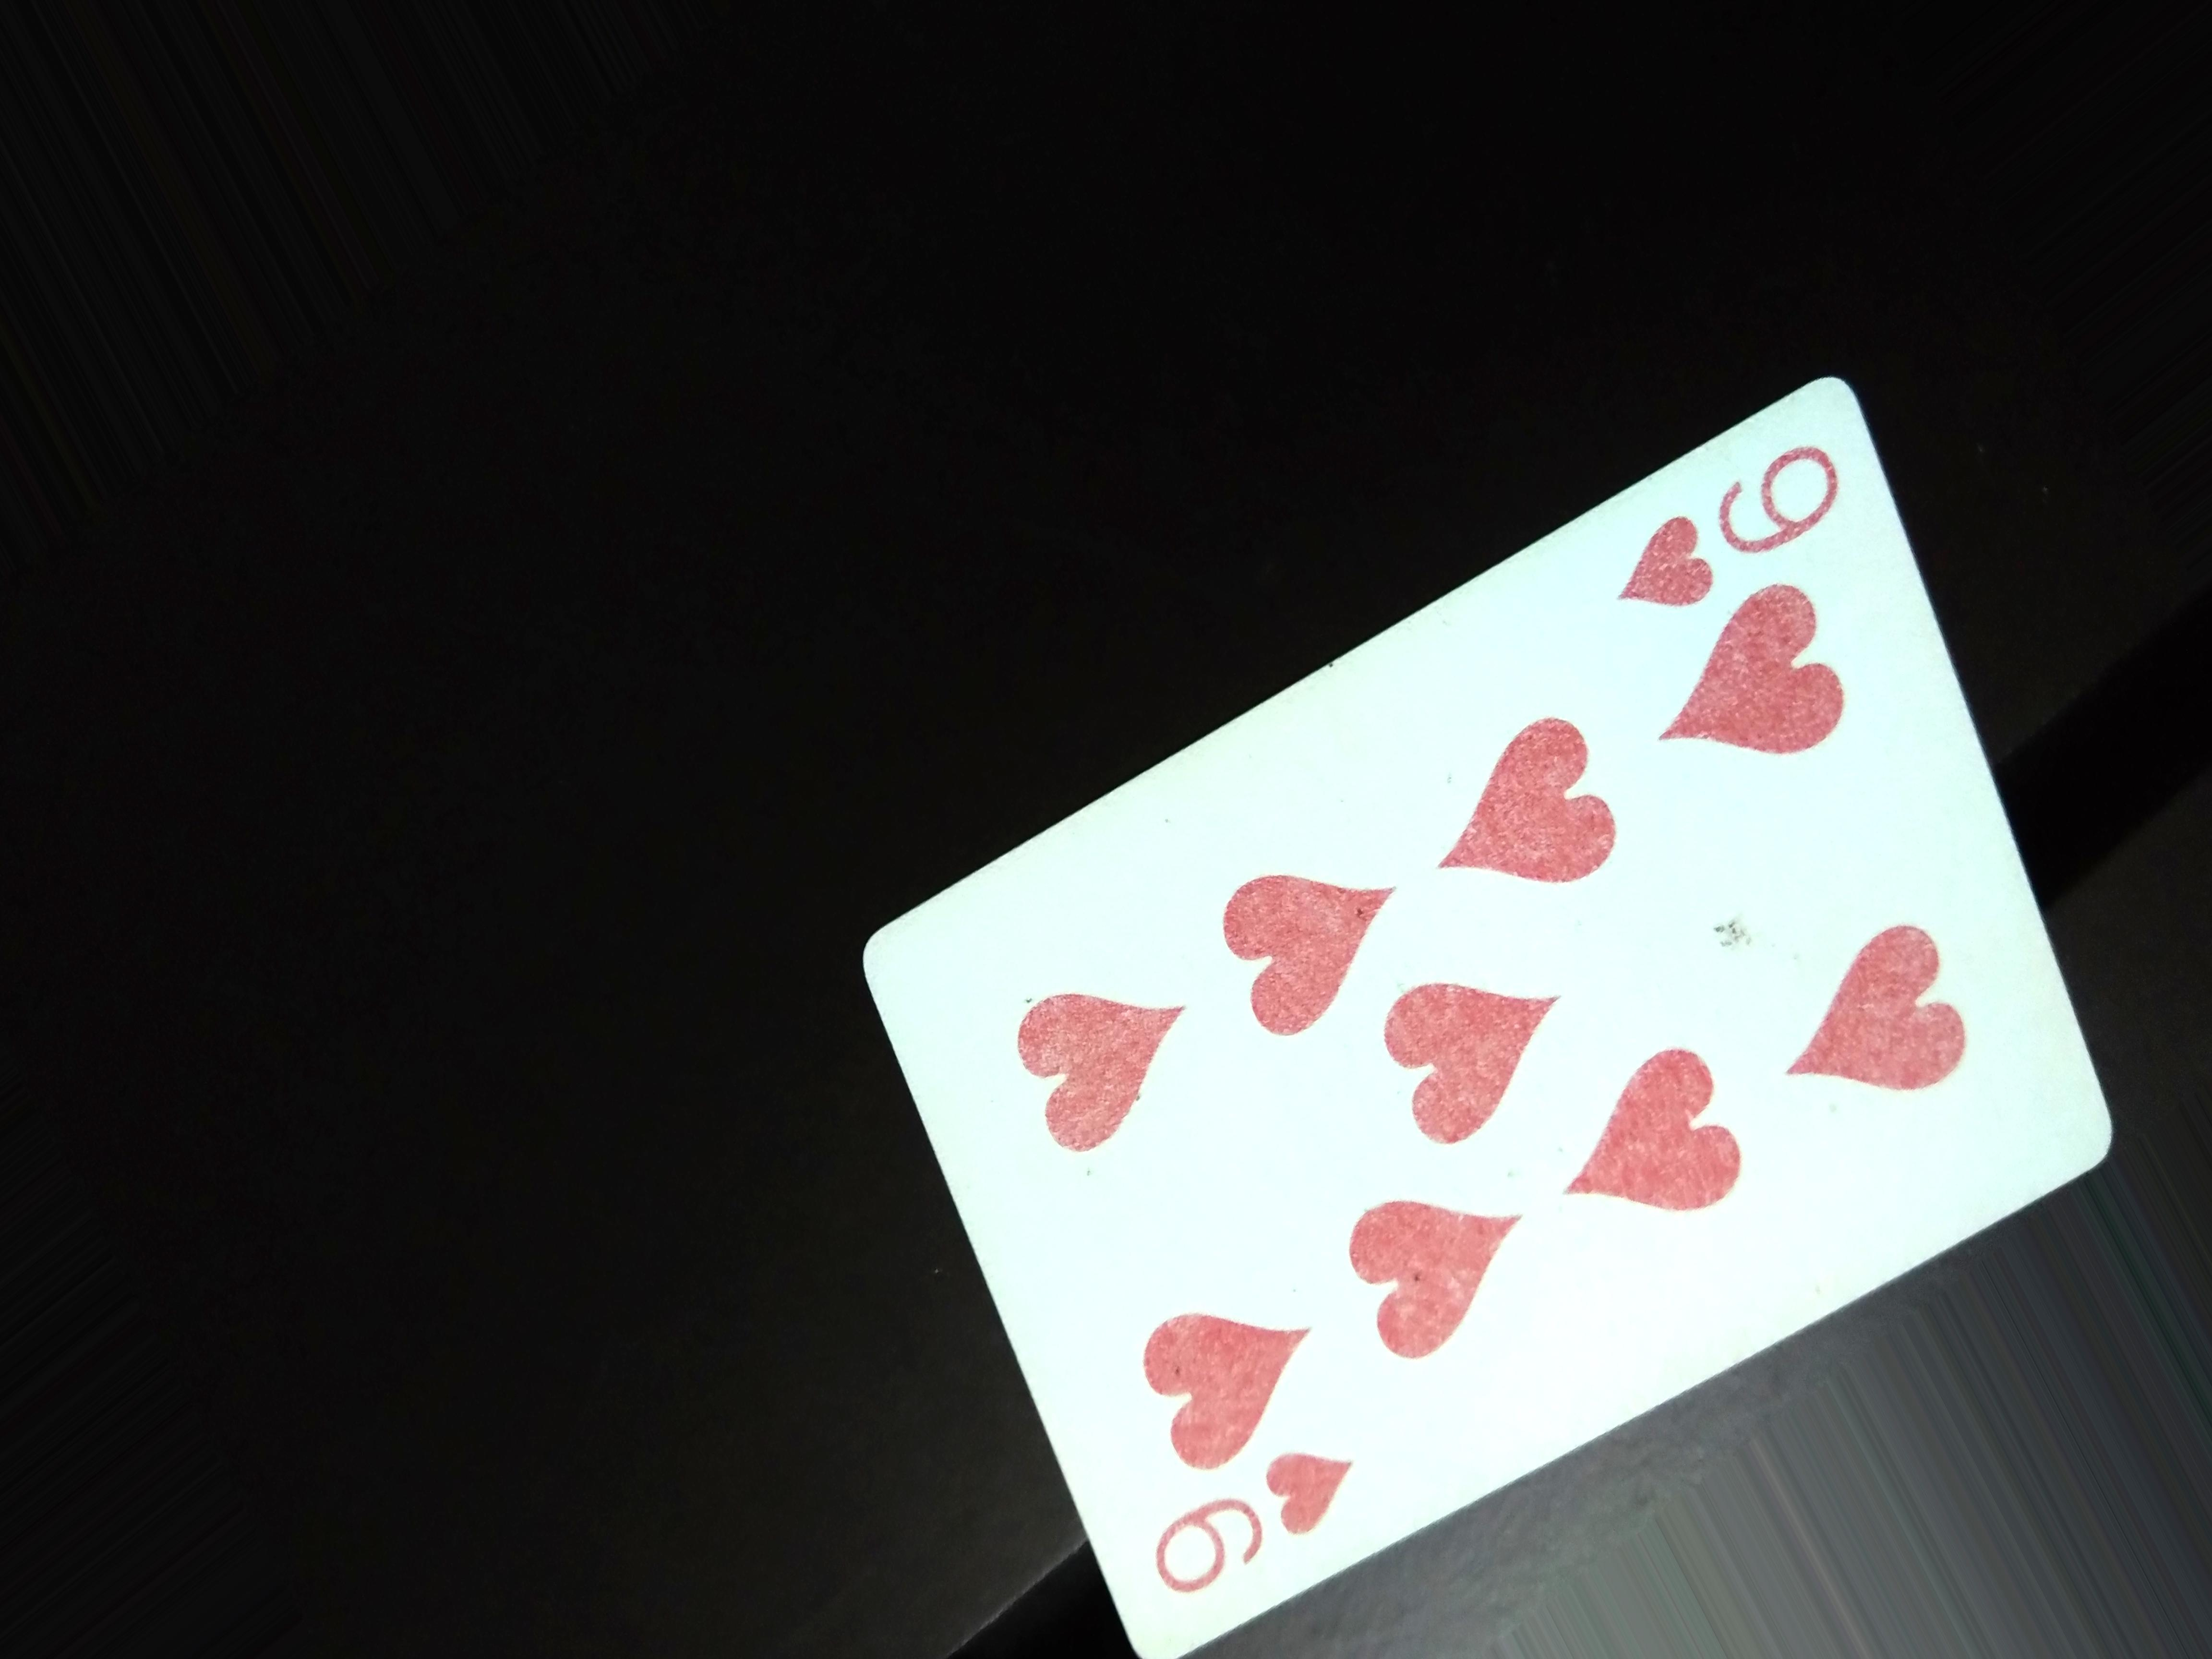9H: (1148, 1450, 1360, 1619)
